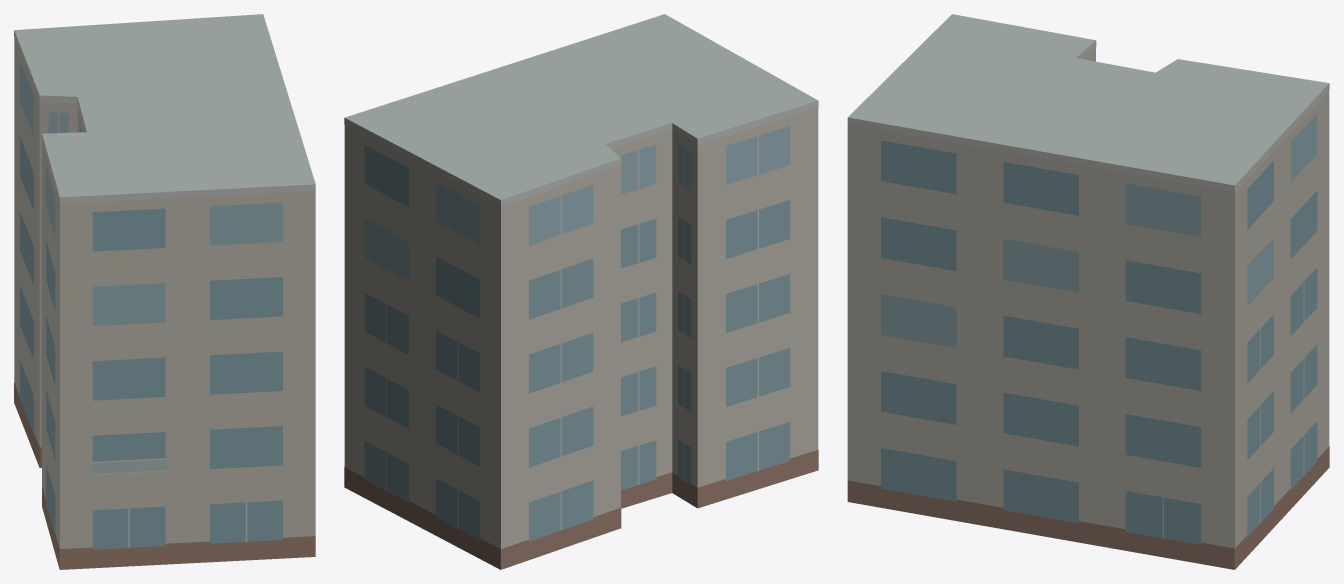
The model's file is survey-upis-32535286.glb.
3 views of the same model, side by side, from view 1: azimuth 30°, elevation 25°; view 2: azimuth 150°, elevation 25°; view 3: azimuth 270°, elevation 25° (orthographic). The views are drawn at different scales.
Parts seen in each view (by area): view 1: survey-upis-32535286.tmp; view 2: survey-upis-32535286.tmp; view 3: survey-upis-32535286.tmp.
Boxes of the visible parts, x1,y1,x2,y2 form: survey-upis-32535286.tmp: (14,14,315,569); survey-upis-32535286.tmp: (344,14,818,569); survey-upis-32535286.tmp: (847,14,1329,569).
Size of the model in its own units: 12.92 by 13.5 by 15.34.
